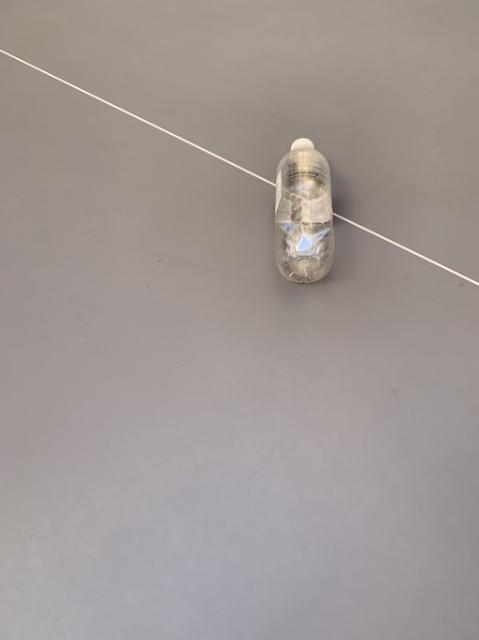plastic: (275, 137, 333, 281)
